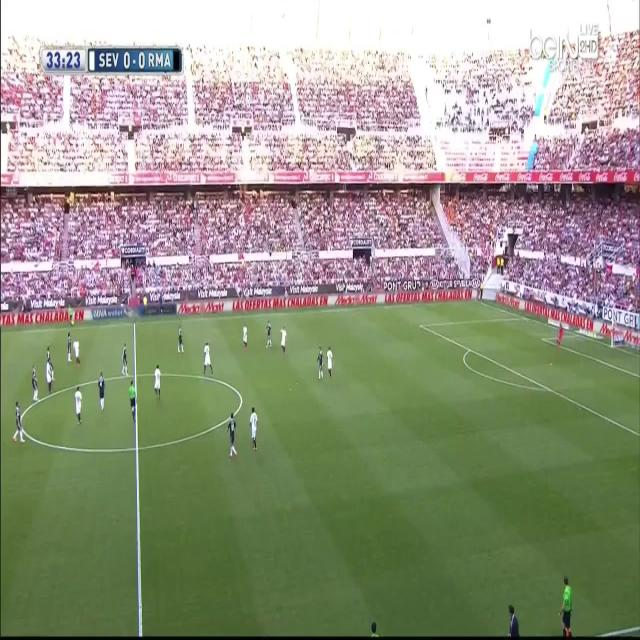Goalkeeper: (552, 318, 566, 349)
Player: (226, 410, 240, 460), (248, 404, 260, 454), (11, 400, 23, 449), (152, 362, 164, 406), (95, 372, 107, 414), (72, 386, 85, 424), (262, 316, 274, 356), (201, 340, 213, 376), (44, 356, 54, 397), (324, 344, 336, 377), (120, 342, 130, 381), (176, 324, 187, 356), (32, 362, 40, 406), (72, 336, 81, 370), (316, 345, 324, 382), (66, 330, 74, 364), (241, 322, 249, 354), (280, 323, 286, 356)
Referee: (559, 575, 578, 639), (128, 379, 139, 425), (66, 304, 74, 329)
